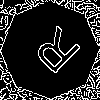R: (25, 25, 83, 83)
